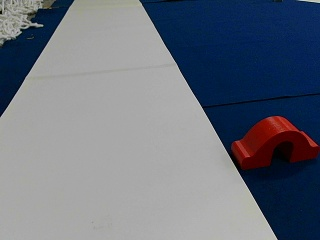bridge: (232, 116, 317, 164)
